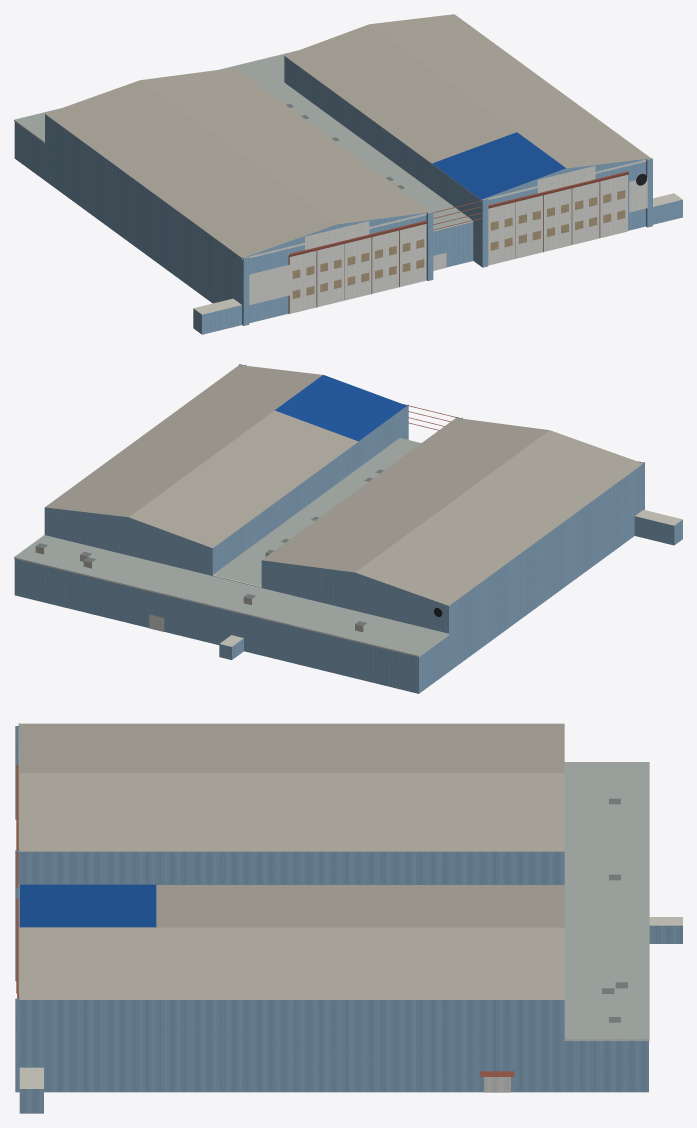
File: cyxd_hangar39_lod2.gltf
3 renders of one model, top to bottom at view 1: azimuth 30°, elevation 25°; view 2: azimuth 150°, elevation 25°; view 3: azimuth 270°, elevation 25°, orthographic. The views are drawn at different scales.
Parts seen in each view (by area): view 1: cyxd_hangar39; view 2: cyxd_hangar39; view 3: cyxd_hangar39.
Part boxes in pixels (x1,y1,x2,y2): cyxd_hangar39: (14,14,682,334); cyxd_hangar39: (14,364,682,693); cyxd_hangar39: (15,723,682,1113).
Size of the model in its own units: 113 by 17.44 by 98.42.
